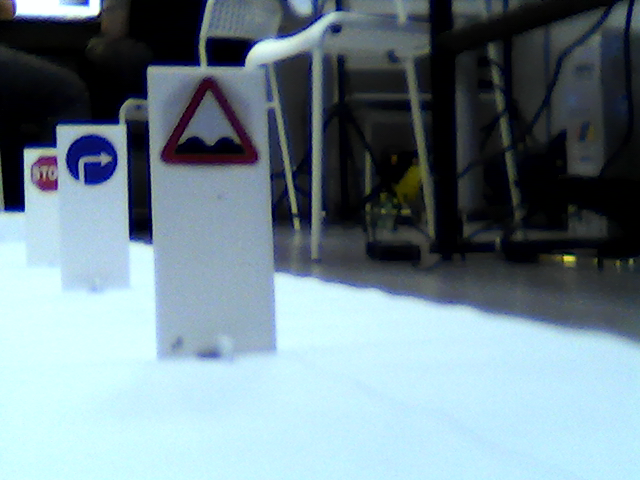Nerov: (161, 81, 264, 170)
Right: (65, 134, 119, 187)
